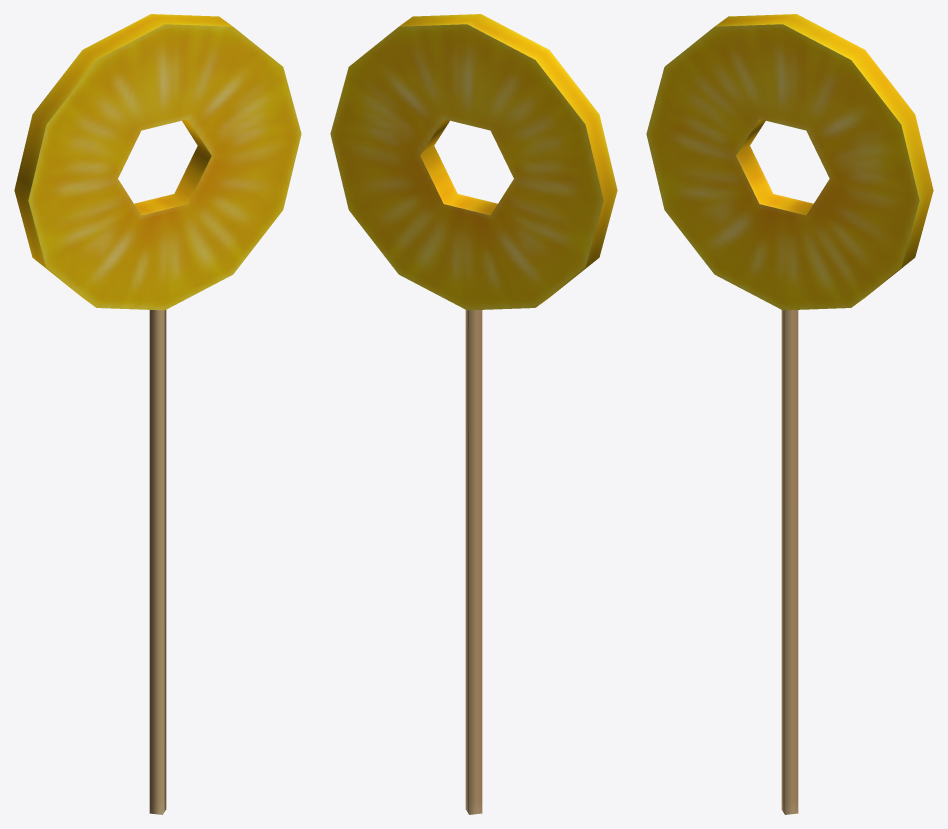
The model's file is jsf_Pineapple_02.fbx.
3 views of the same model, side by side, from view 1: azimuth 30°, elevation 25°; view 2: azimuth 150°, elevation 25°; view 3: azimuth 330°, elevation 25° (orthographic).
Parts seen in each view (by area): view 1: jsf_Pineapple_02; view 2: jsf_Pineapple_02; view 3: jsf_Pineapple_02.
Part boxes in pixels (<box>): jsf_Pineapple_02: <box>14,14,301,814</box>; jsf_Pineapple_02: <box>330,14,617,814</box>; jsf_Pineapple_02: <box>646,14,933,814</box>.
Size of the model in its own units: 6.95 by 19.26 by 0.6148.
